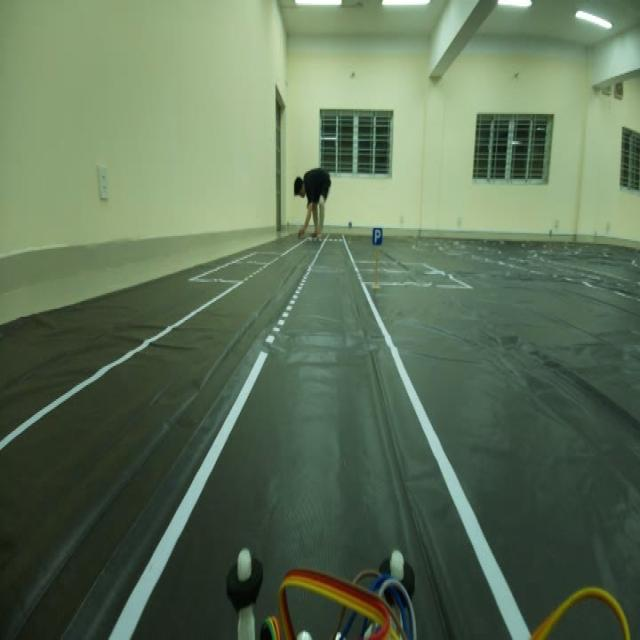parking: (368, 220, 388, 254)
